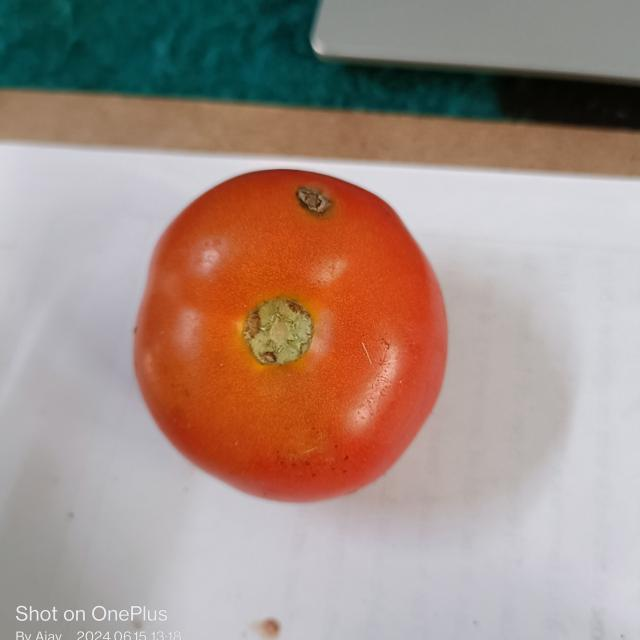Bacterial_Spot: (241, 296, 312, 366), (294, 184, 332, 217)
